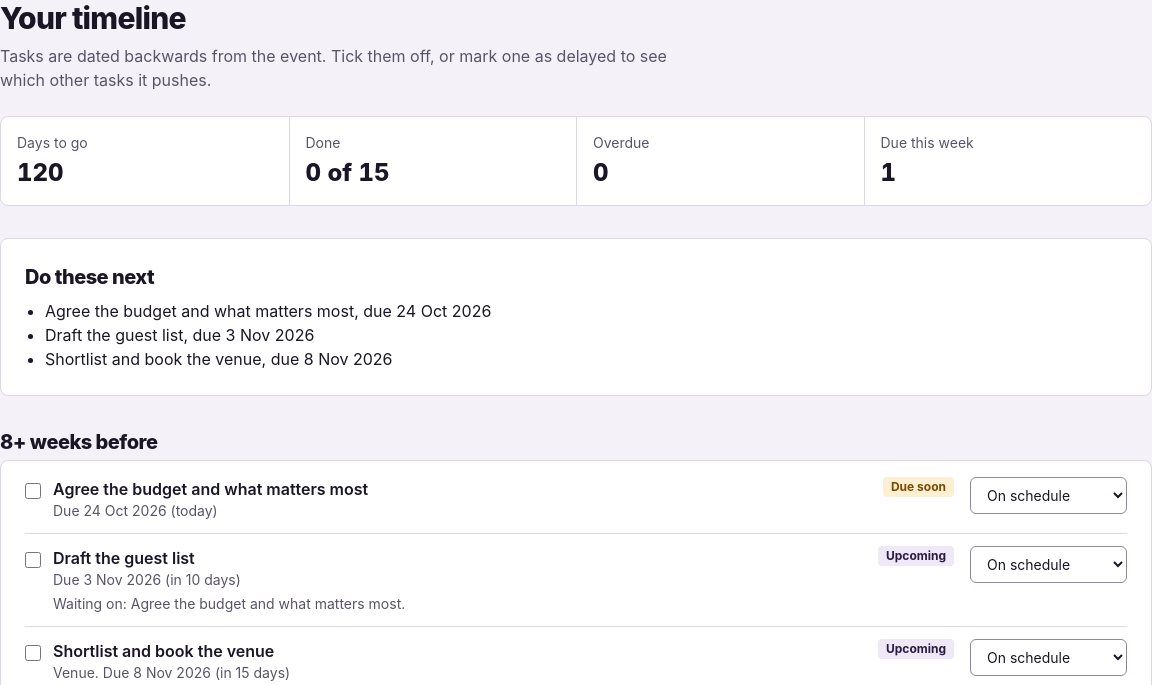
Test: timeline › ticking tasks updates progress and persists it
expect the text "0 of 15" is shown: met, box 306,158 -> 390,187
Click the checkbox labelled "Agree the budget and what matters most" at (33, 491), box 25,483 -> 41,499
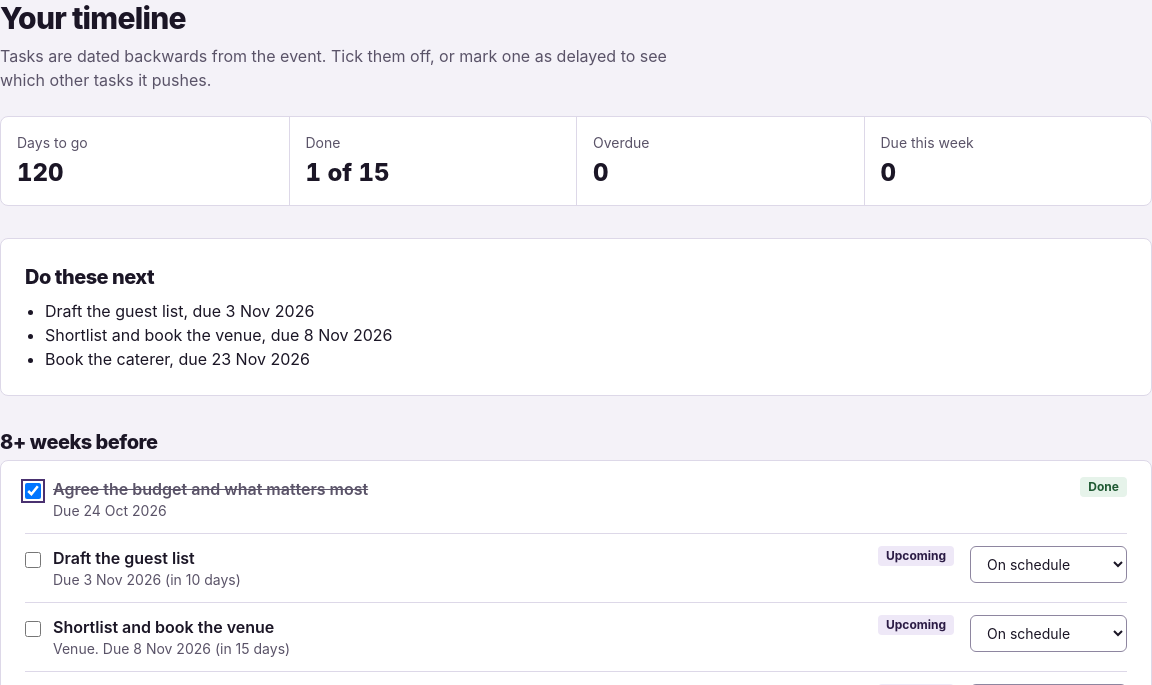
expect the text "1 of 15" is shown: met, box 306,158 -> 390,187
